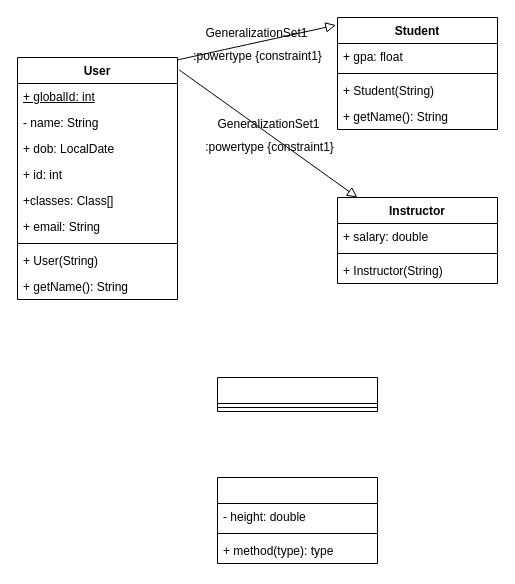
Some shapes in this 515 by 584 pixel diagram are drawn without their labels. Each missing label, with the box of its shape:
Shape: (216, 376, 378, 412)
Triangle: (216, 476, 378, 564)
